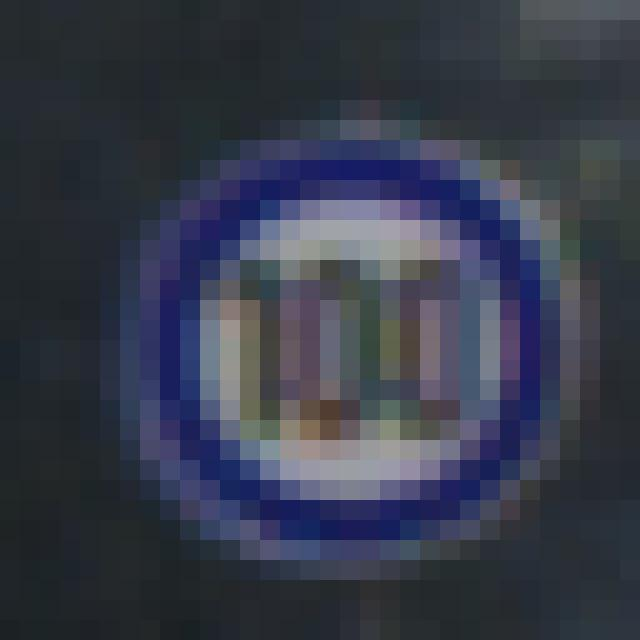SPEED LIMIT 100: (116, 116, 574, 570)
